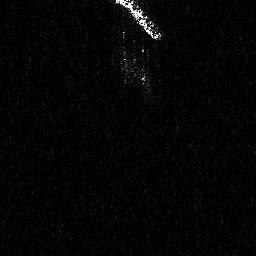ship: (110, 1, 165, 42)
